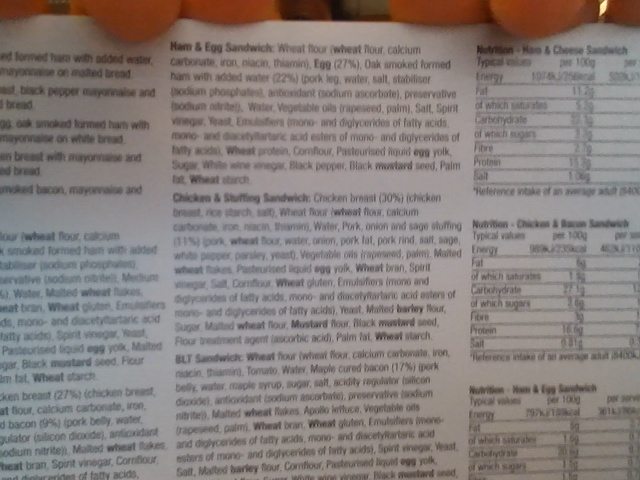wheat: (274, 272, 305, 290), (331, 43, 362, 55)
